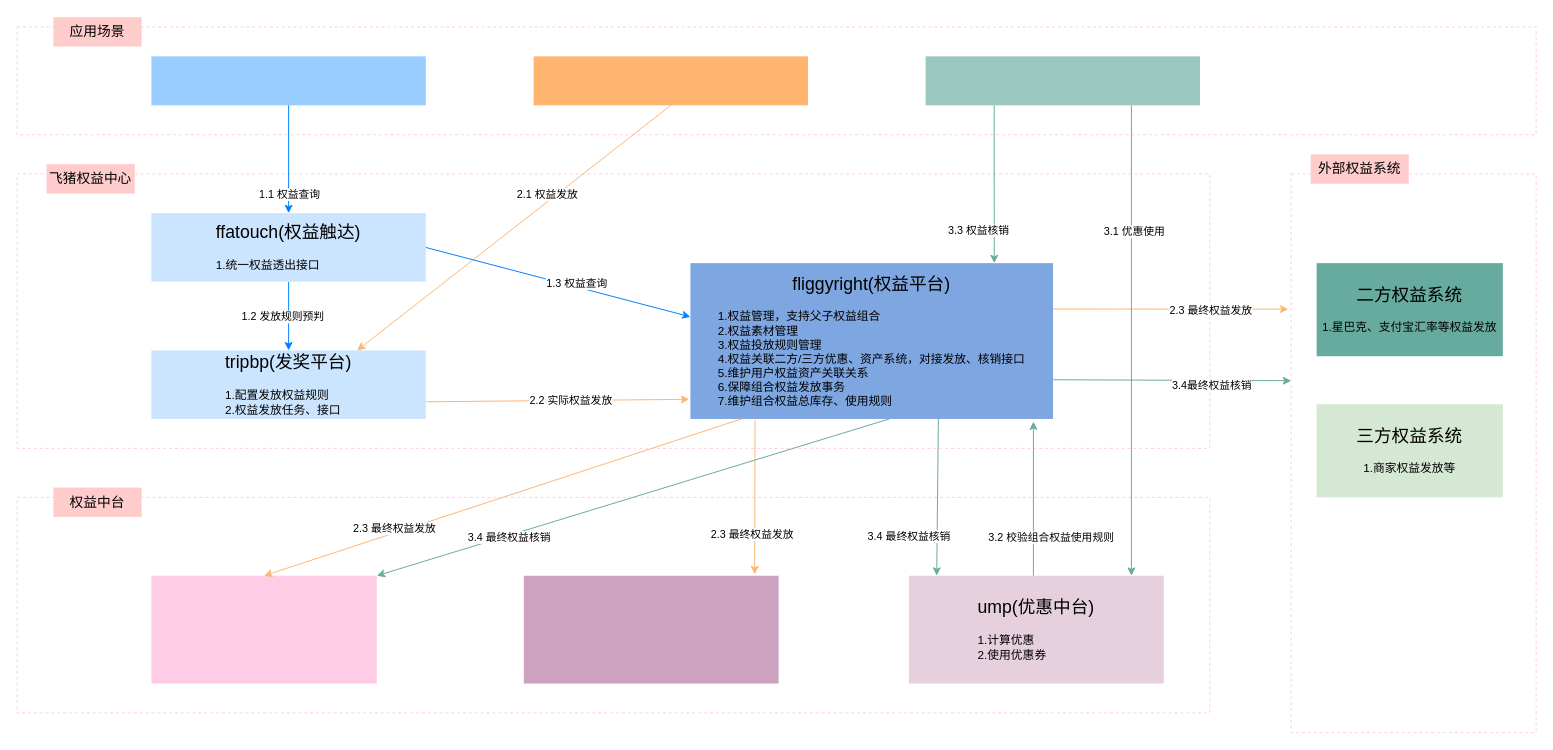
Image size: 1553x750. Some labels were removed from this diagram. The shapes that lost their labels are listed below. From the top down, each one's box as (x1, y1, x2, y2) in pixels, then its label:
(151, 56, 425, 105): 导购权益展示
(533, 56, 808, 105): 导购权益领取 / 行为触发权益发放
(925, 56, 1200, 105): 交易/履约 权益使用
(151, 575, 376, 683): fp(资金中台) 1.发放里程、天猫积分 2.保存用户里程、积分资产
(523, 575, 778, 683): promotion-center(权益中台) 1.发放优惠券、 发放部分权益（龙腾） 2.维护用户优惠券、权益资产关联
